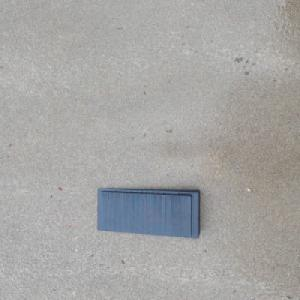PlasticPart: (96, 187, 201, 238)
